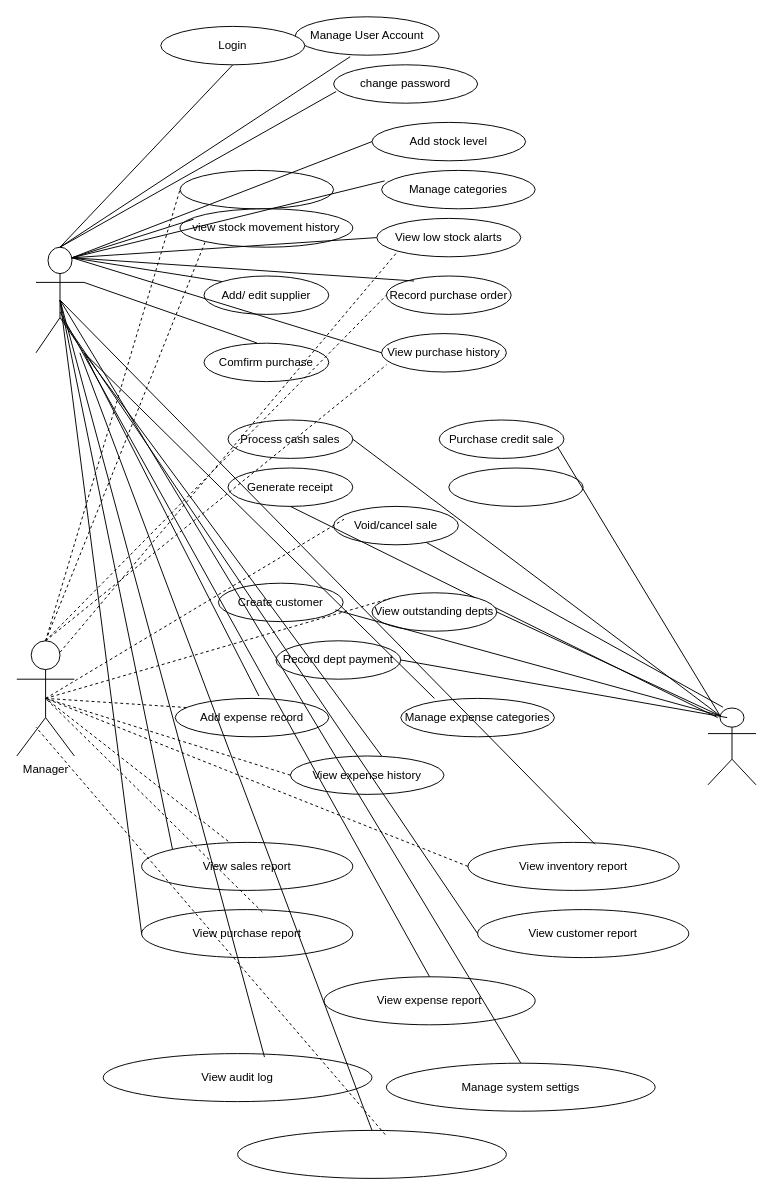
Image size: 773x1195. Some labels were removed from this diagram. The shapes that lost their labels are listed below. From the top down, each one's centre as x and y in pixels, then its label:
At (256,189): "Add/Edith Product".
At (59,299): "Owner".
At (515,486): "Record partial payment".
At (731,746): "Cashier".
At (371,1153): "View dashboard overview".
